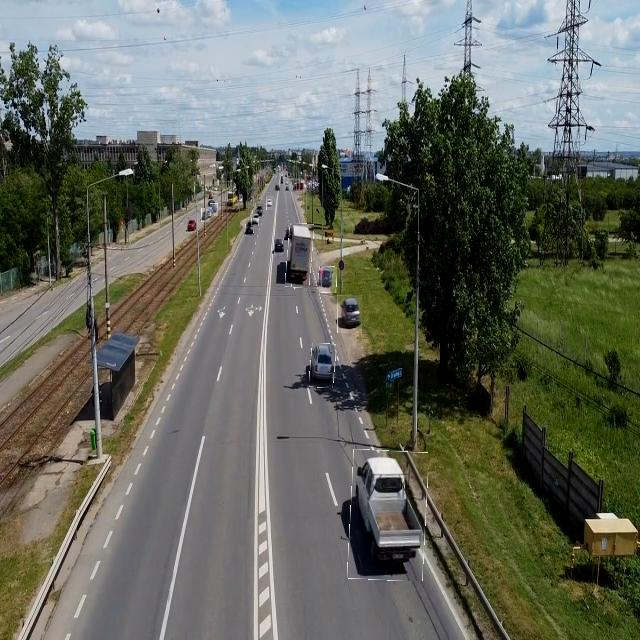Car: (310, 344, 336, 388), (337, 295, 362, 333), (319, 267, 337, 293), (274, 238, 284, 255), (187, 216, 197, 232), (246, 220, 254, 236), (201, 208, 210, 222), (252, 210, 259, 227), (255, 203, 263, 217), (210, 203, 218, 216), (266, 196, 273, 210)
Truck: (349, 450, 426, 581), (287, 224, 313, 288)
